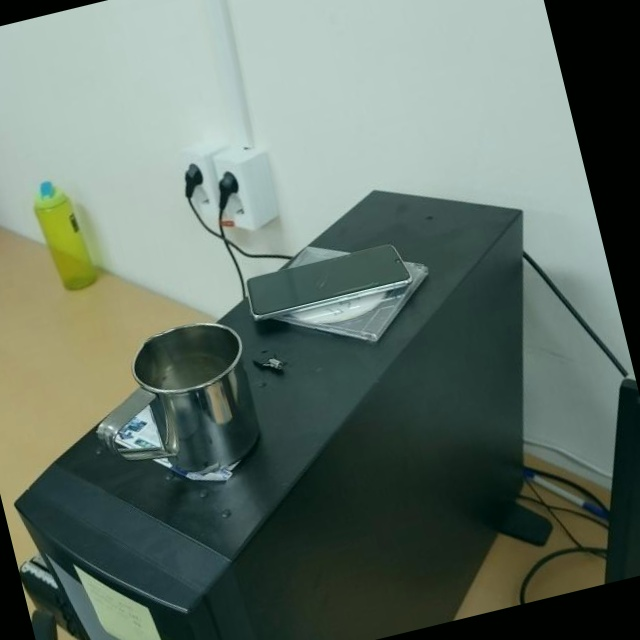cup: (76, 310, 270, 497)
phone: (241, 237, 416, 330)
